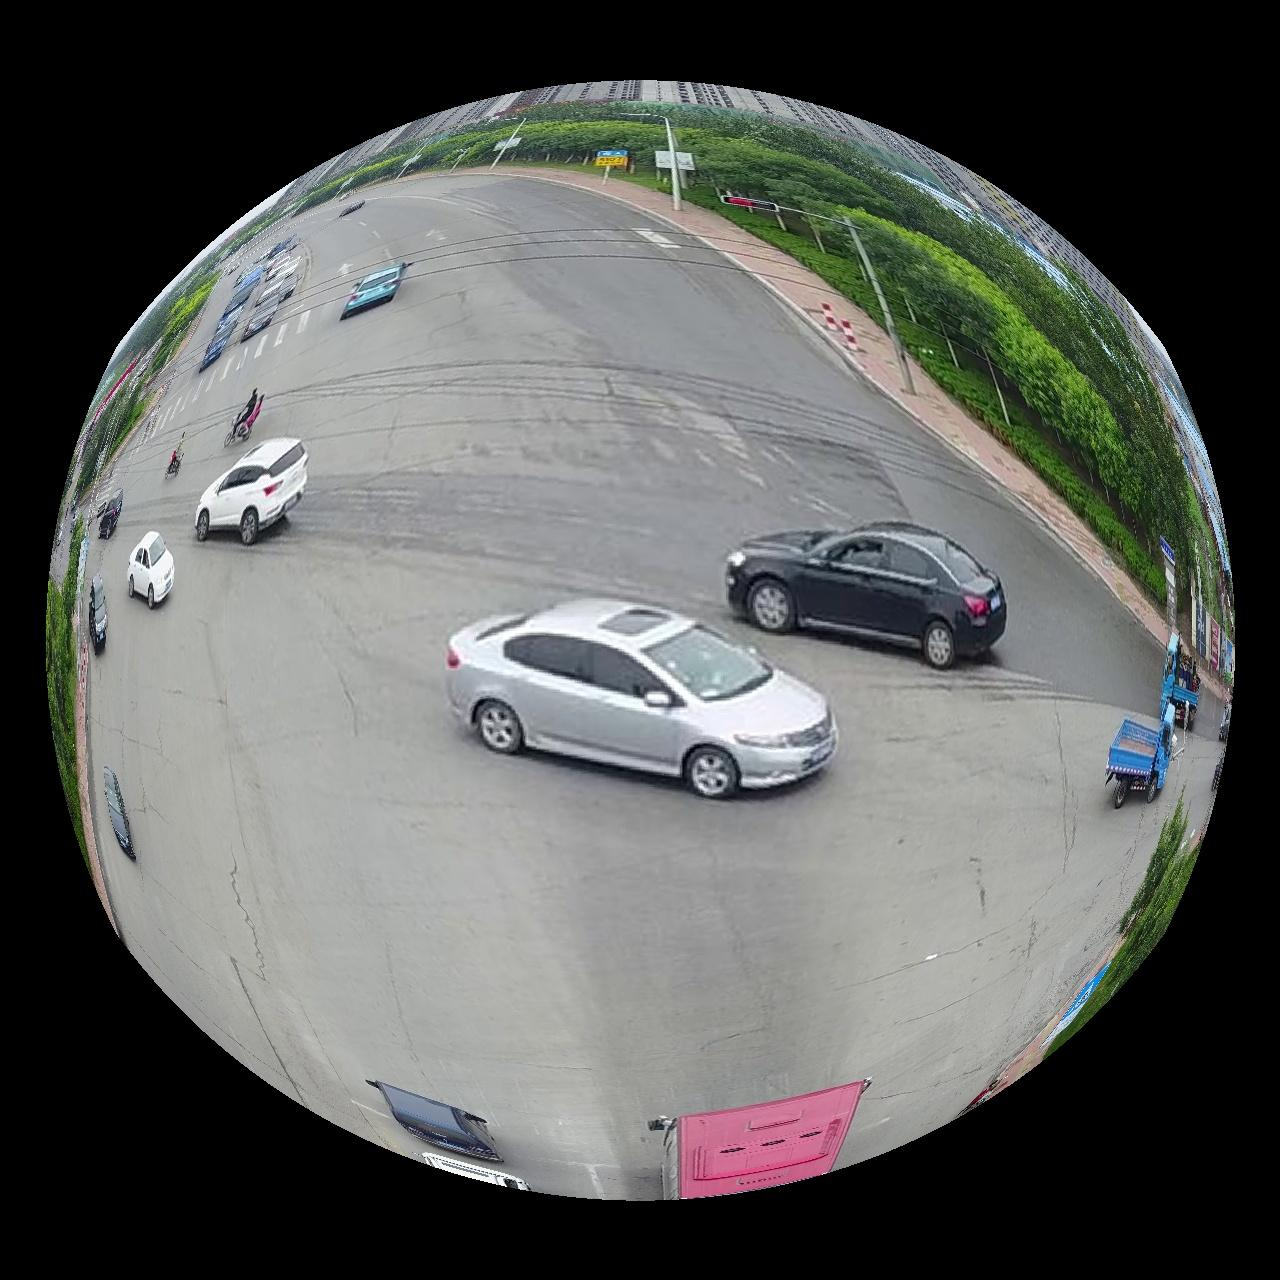cars: (445, 599, 837, 798), (726, 522, 1009, 668), (665, 1083, 870, 1201), (195, 437, 307, 544), (366, 1084, 501, 1164), (340, 261, 407, 319), (125, 531, 173, 607)
trees: (309, 98, 1211, 600)
